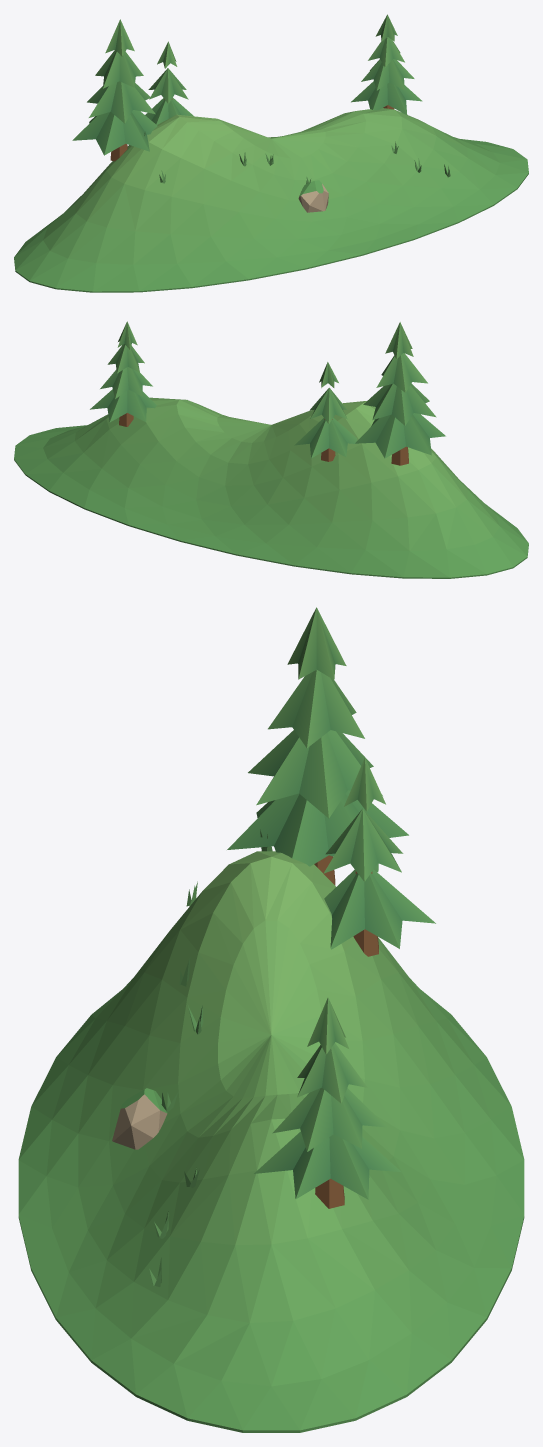
The model's file is ranch_border_hill_twin.fbx.
The picture shows the model from 3 angles, top to bottom: view 1: azimuth 30°, elevation 25°; view 2: azimuth 150°, elevation 25°; view 3: azimuth 270°, elevation 25°; orthographic projection. The views are drawn at different scales.
Parts seen in each view (by area): view 1: ranch_border_hill_twin; view 2: ranch_border_hill_twin; view 3: ranch_border_hill_twin.
Boxes of the visible parts, bbox=[...] form: ranch_border_hill_twin: bbox=[14, 14, 528, 292]; ranch_border_hill_twin: bbox=[14, 321, 528, 578]; ranch_border_hill_twin: bbox=[18, 607, 524, 1432].
Size of the model in its own units: 49.69 by 21.28 by 21.86.
